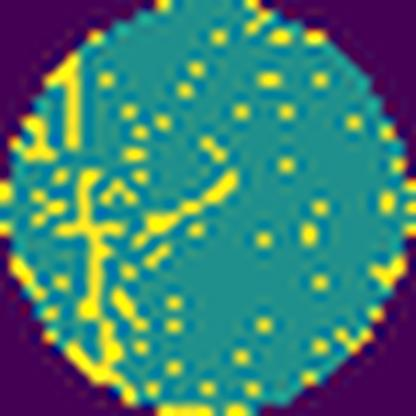Scratch: (50, 166, 131, 396), (126, 165, 241, 251), (43, 50, 86, 154)
